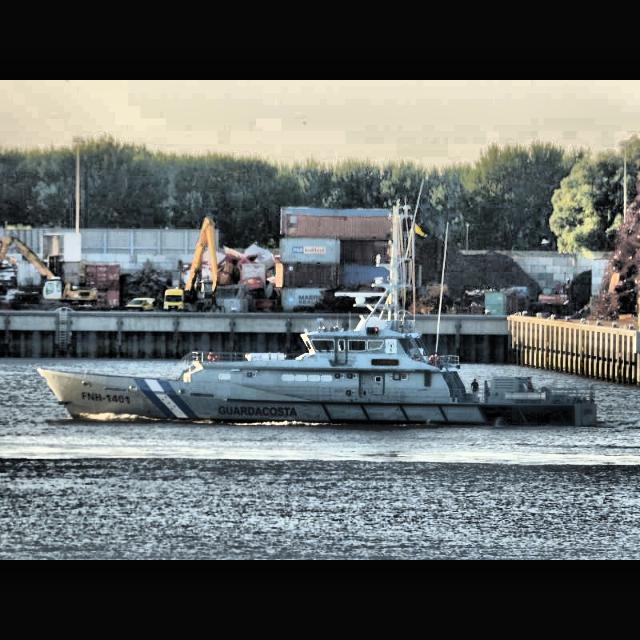patrol_vessel: (37, 198, 600, 428)
